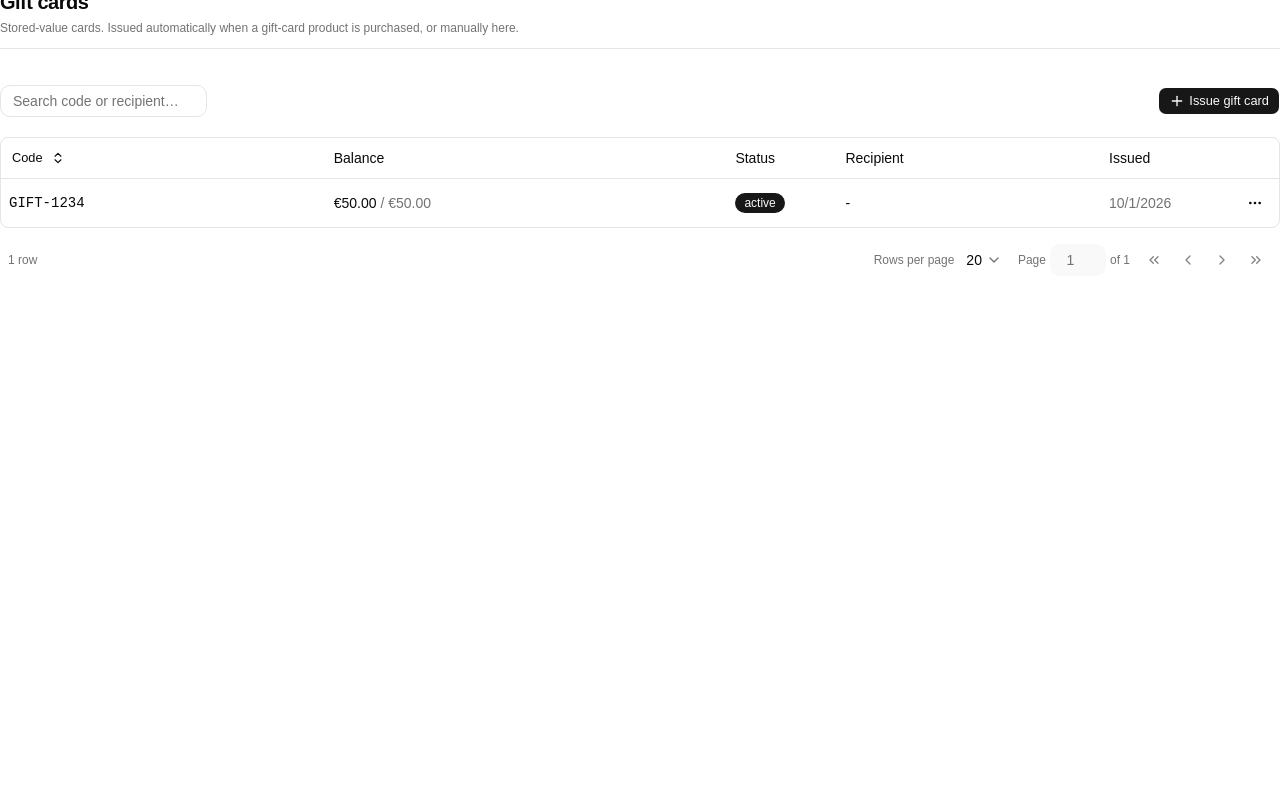
it: GiftCardsList disable › keeps the dialog open and shows a refused disable
Press the mouse on the button named "Gift card actions" at (1255, 202), box [1239,186,1271,218]
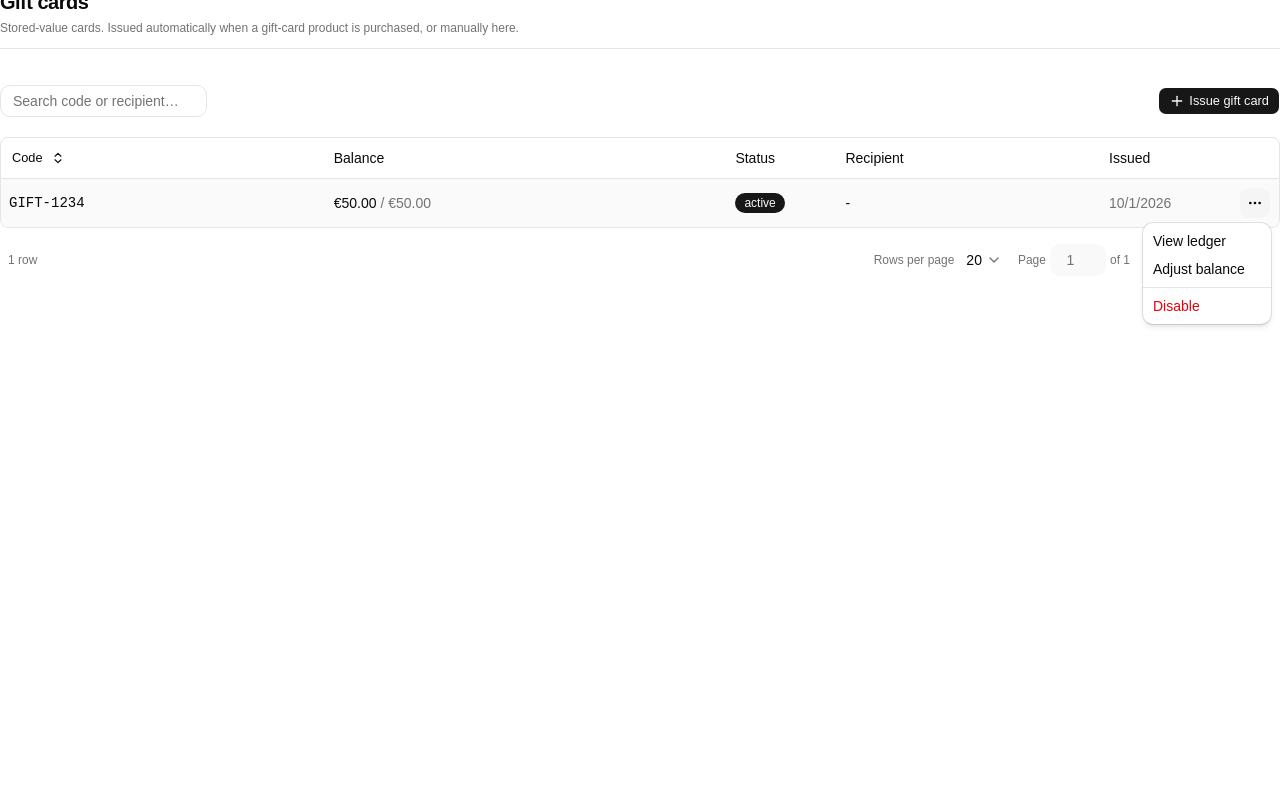
Click the menu item "Disable" at (1176, 306), box [1153,298,1200,314]
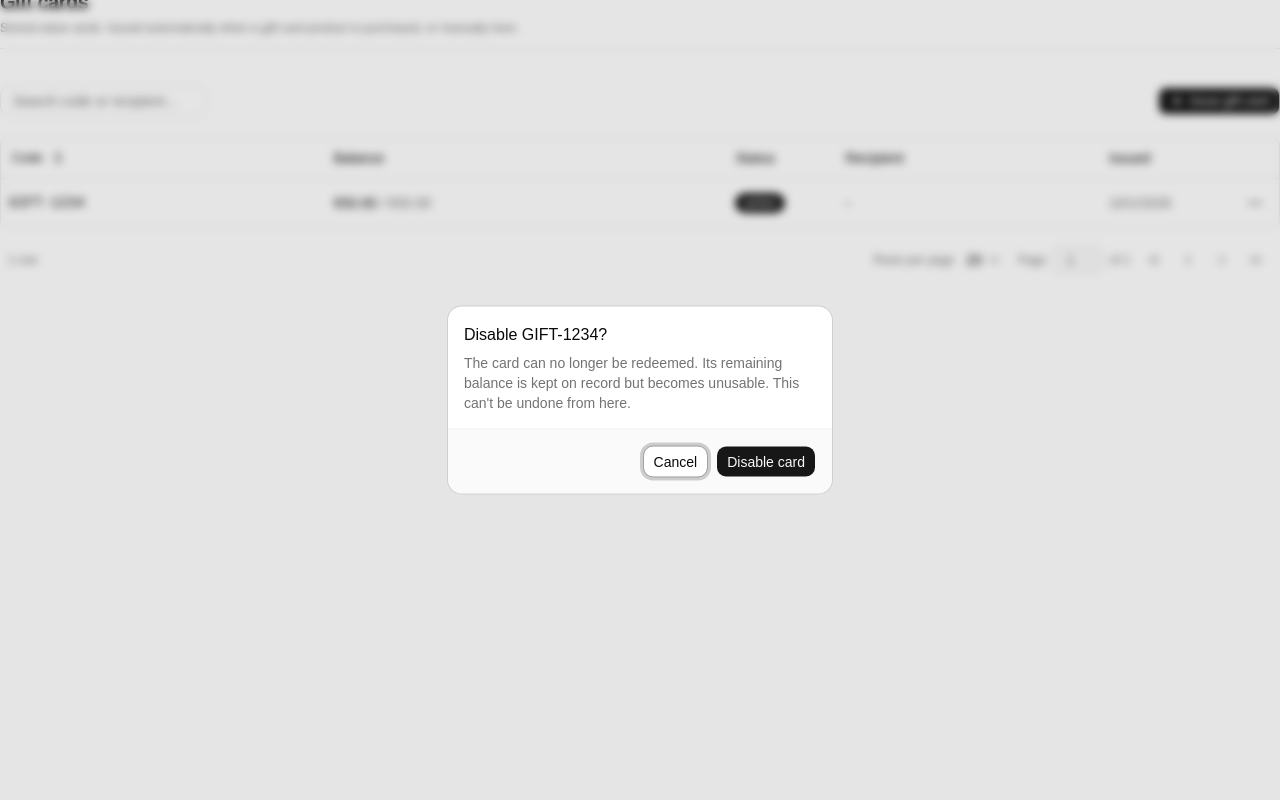
Click the button "Disable card" at (766, 462), box [716,446,816,478]
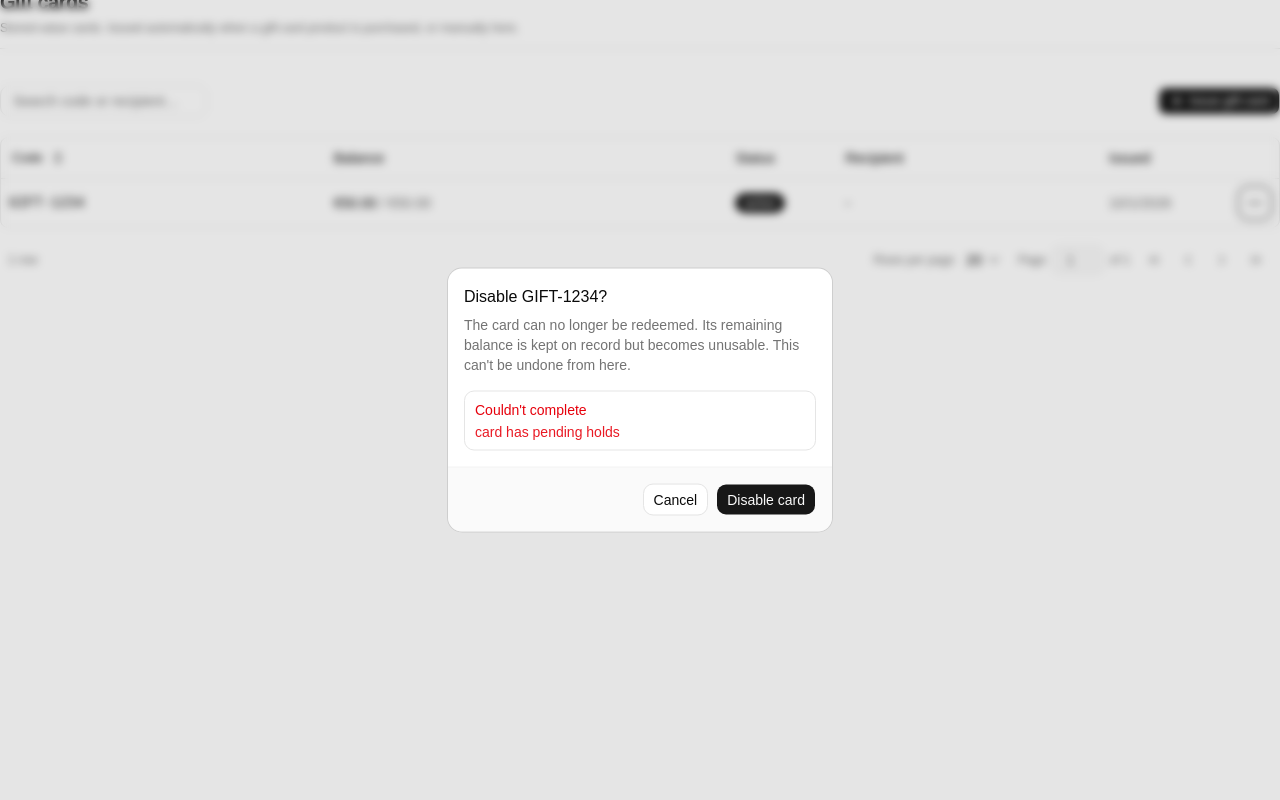
Expected: the text "card has pending holds" is shown, [475,424,620,440]
